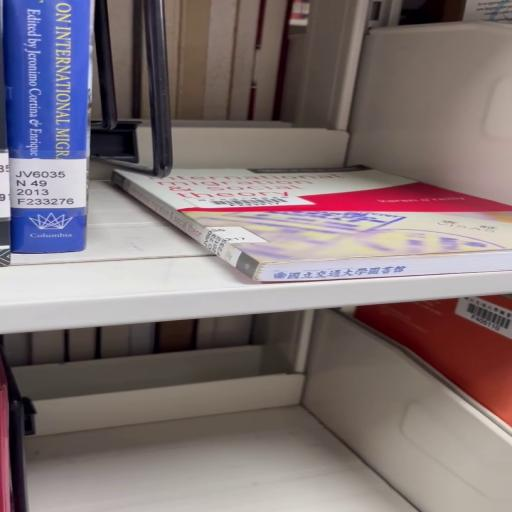flat: (113, 167, 512, 283)
